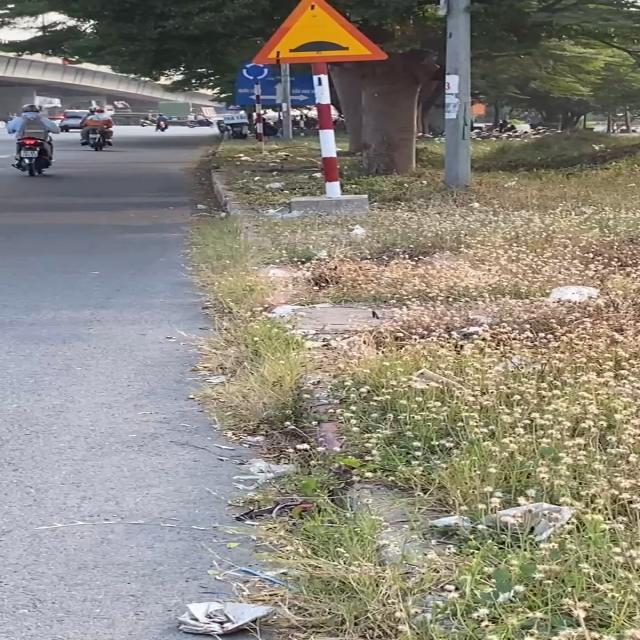221-duong-go-ghe: (252, 0, 391, 66)
303-noi-giao-nhau-chay-theo-vong-xuyen: (239, 60, 271, 82)
